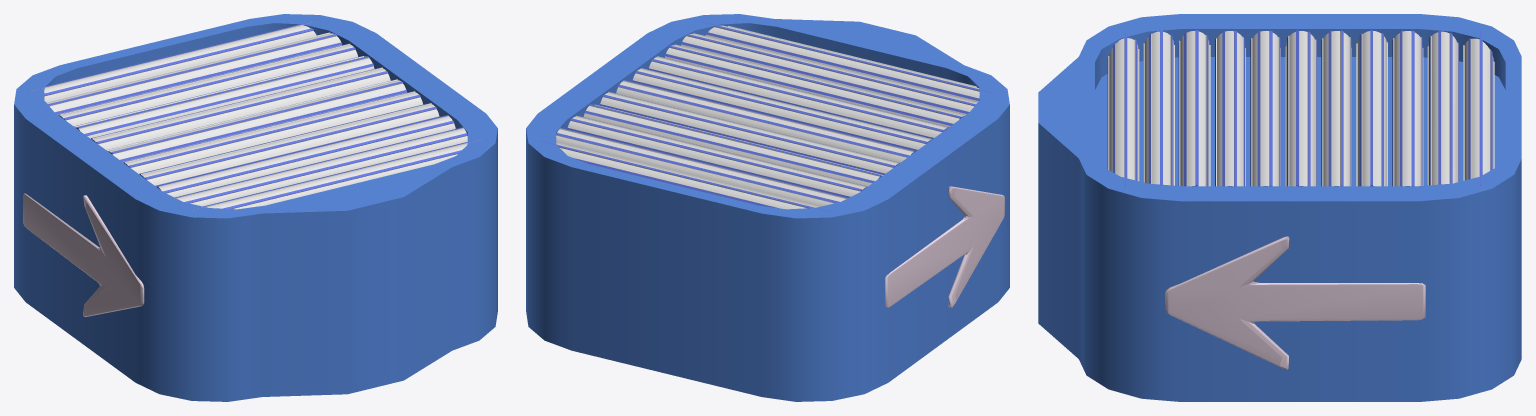
File: Conveyor_1.fbx
The picture shows the model from 3 angles, left to right: view 1: azimuth 30°, elevation 25°; view 2: azimuth 150°, elevation 25°; view 3: azimuth 270°, elevation 25°; orthographic projection. The views are drawn at different scales.
Parts seen in each view (by area): view 1: Base, Arrows, Roller.010, Roller.003, Roller.005, Roller.006, Roller, Roller.009, Roller.002, Roller.004, Roller.008, Roller.001 (+1 smaller); view 2: Base, Arrows, Roller, Roller.006, Roller.003, Roller.010, Roller.009, Roller.008, Roller.005, Roller.004, Roller.002, Roller.007 (+1 smaller); view 3: Base, Arrows, Roller.009, Roller.004, Roller.005, Roller.003, Roller.008, Roller.002, Roller, Roller.006, Roller.010, Roller.007 (+1 smaller).
Boxes of the visible parts, x1,y1,x2,y2 form: Base: [14, 14, 497, 401]; Arrows: [23, 193, 144, 316]; Roller.010: [139, 103, 439, 186]; Roller.003: [58, 43, 358, 126]; Roller.005: [107, 79, 406, 162]; Roller.006: [123, 91, 423, 174]; Roller: [91, 67, 390, 150]; Roller.009: [156, 115, 455, 197]; Roller.002: [46, 32, 342, 114]; Roller.004: [74, 56, 374, 138]; Roller.008: [174, 127, 467, 206]; Roller.001: [28, 20, 318, 101]; Base: [526, 14, 1009, 401]; Arrows: [885, 186, 1004, 307]; Roller: [599, 91, 899, 174]; Roller.006: [632, 68, 932, 151]; Roller.003: [567, 115, 867, 197]; Roller.010: [648, 56, 948, 138]; Roller.009: [665, 44, 964, 126]; Roller.008: [681, 33, 977, 115]; Roller.005: [616, 80, 915, 162]; Roller.004: [583, 104, 883, 186]; Roller.002: [556, 127, 848, 206]; Roller.007: [702, 22, 993, 102]; Base: [1038, 14, 1521, 401]; Arrows: [1165, 236, 1425, 369]; Roller.009: [1178, 30, 1210, 186]; Roller.004: [1356, 30, 1387, 186]; Roller.005: [1285, 30, 1316, 186]; Roller.003: [1392, 30, 1423, 186]; Roller.008: [1143, 30, 1174, 185]; Roller.002: [1427, 30, 1458, 185]; Roller: [1321, 30, 1351, 186]; Roller.006: [1250, 30, 1280, 186]; Roller.010: [1215, 30, 1245, 186]; Roller.007: [1107, 30, 1139, 185].
Size of the model in its own units: 102 by 50.05 by 109.
